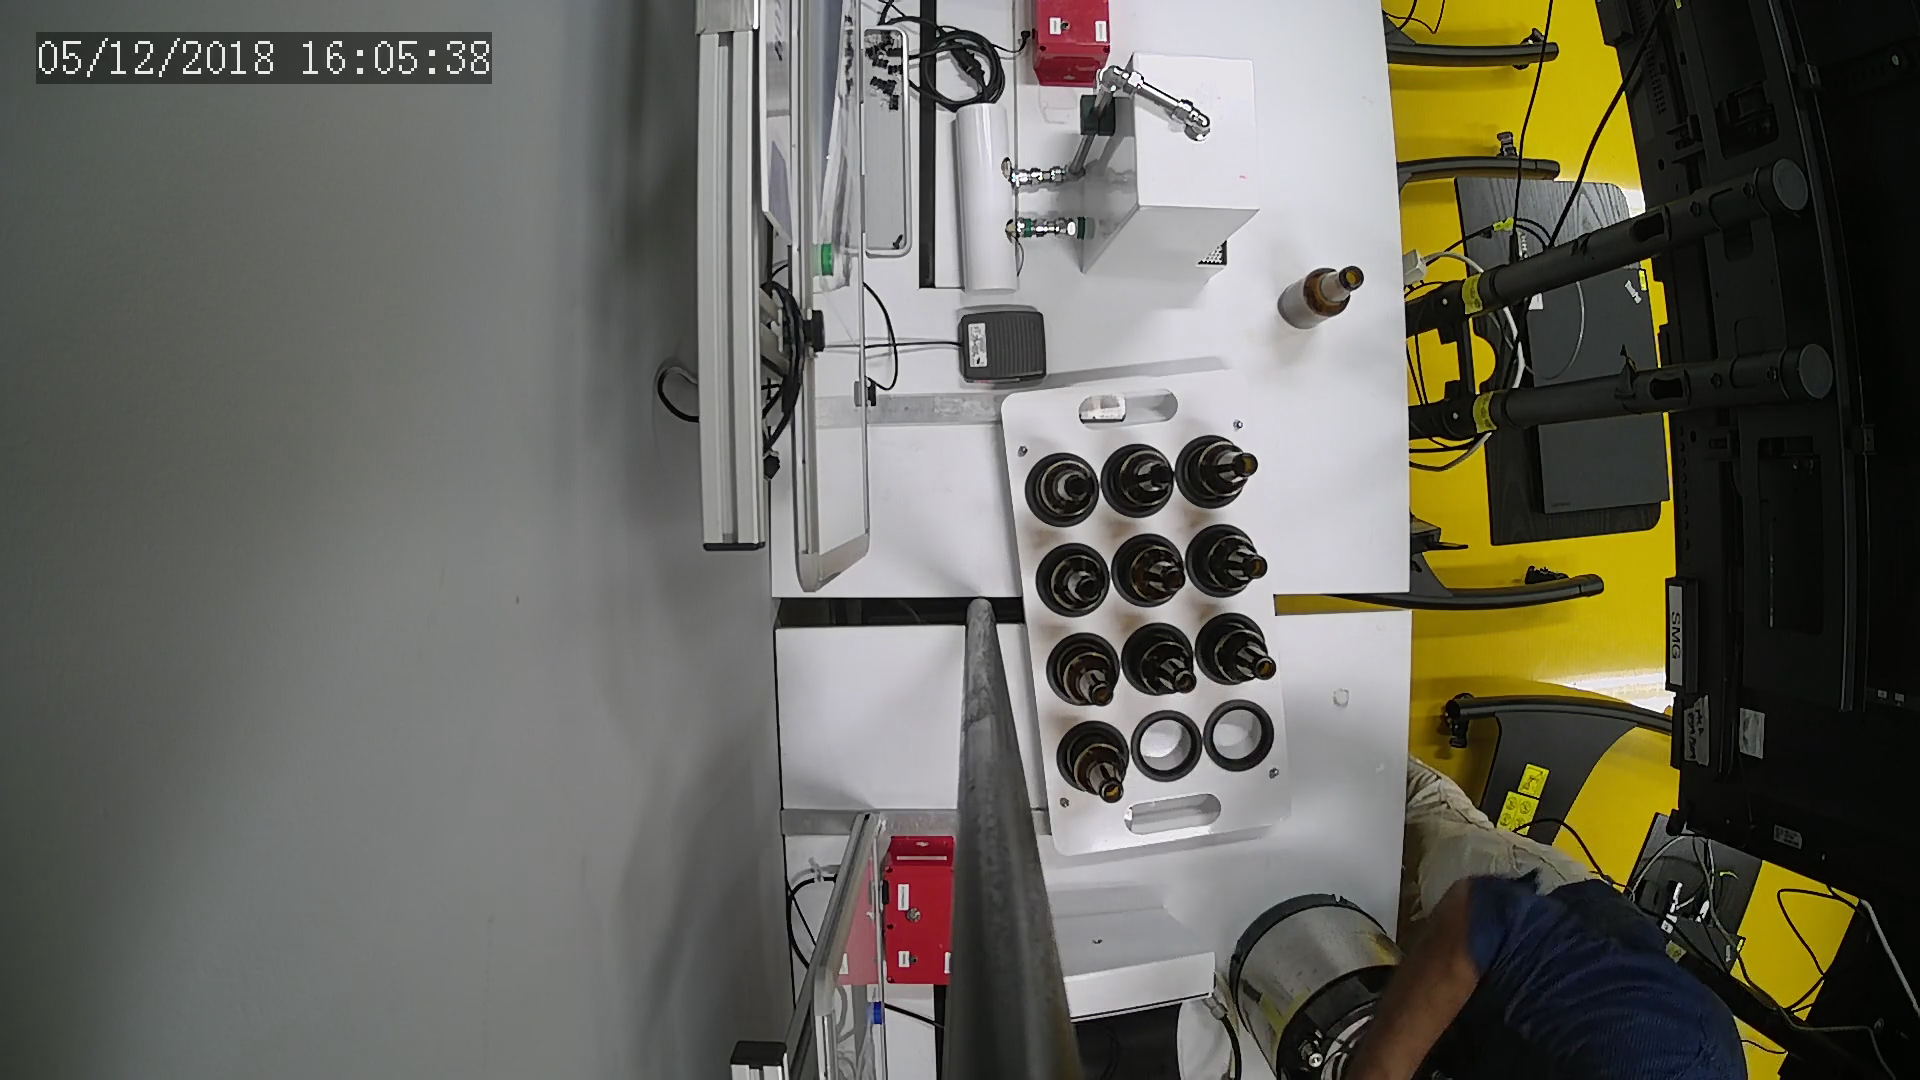filled_bottle: (1054, 716, 1139, 818), (1197, 609, 1287, 694), (1172, 430, 1265, 509), (1185, 524, 1278, 601), (1118, 618, 1197, 705), (1047, 628, 1124, 716), (1110, 527, 1189, 611), (1098, 436, 1178, 518), (1031, 545, 1118, 618), (1022, 447, 1098, 524)
trolley: (1000, 363, 1303, 858)
unfilled_bottle: (1269, 258, 1367, 334)
